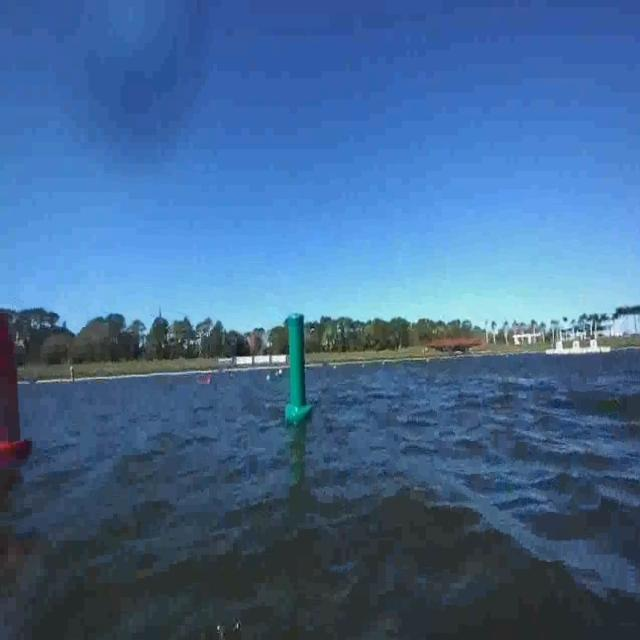green-column-buoy: (284, 312, 312, 423)
red-column-buoy: (0, 311, 33, 464)
